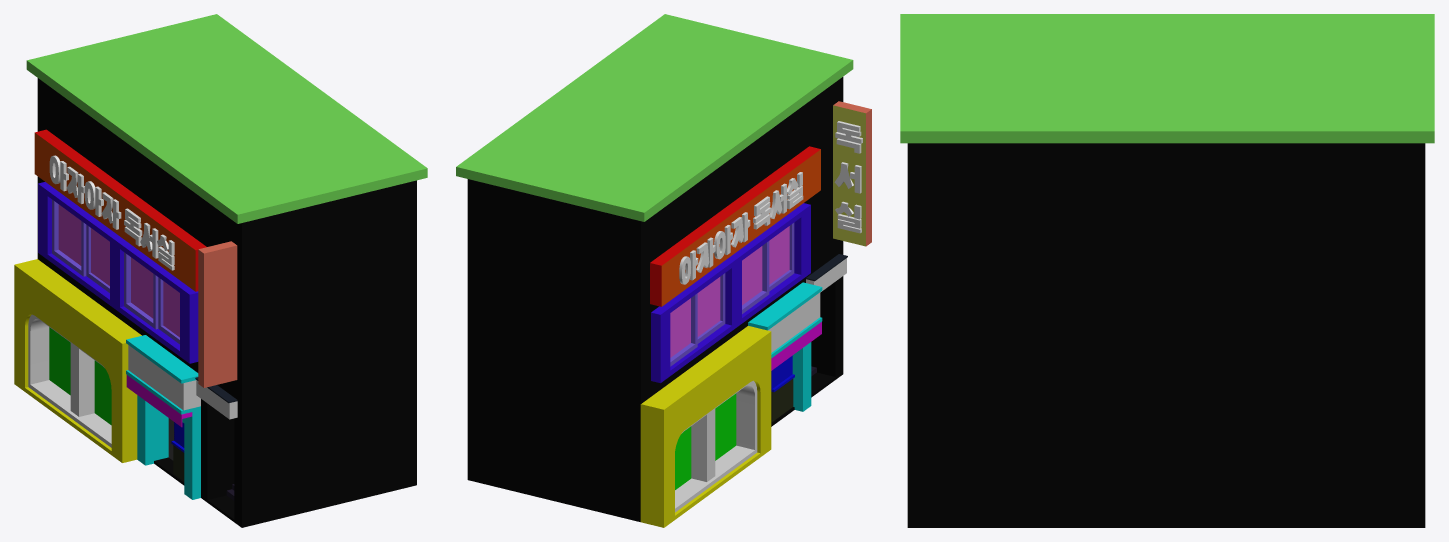
File: Building_9.fbx
3 views of the same model, side by side, from view 1: azimuth 30°, elevation 25°; view 2: azimuth 150°, elevation 25°; view 3: azimuth 270°, elevation 25° (orthographic). The views are drawn at different scales.
Visible parts, largest first — view 1: polySurface912, polySurface914, polySurface886, typeMesh8, polySurface892, polySurface909; view 2: polySurface912, polySurface914, polySurface886, typeMesh8, typeMesh9, polySurface892, polySurface909; view 3: polySurface912.
Boxes of the visible parts, x1=… form: polySurface912: x1=14, y1=14, x2=427, y2=527; polySurface914: x1=34, y1=129, x2=206, y2=291; polySurface886: x1=198, y1=241, x2=237, y2=387; typeMesh8: x1=49, y1=155, x2=174, y2=270; polySurface892: x1=128, y1=345, x2=200, y2=410; polySurface909: x1=196, y1=380, x2=237, y2=419; polySurface912: x1=456, y1=14, x2=853, y2=527; polySurface914: x1=650, y1=146, x2=820, y2=306; polySurface886: x1=833, y1=101, x2=871, y2=246; typeMesh8: x1=679, y1=172, x2=803, y2=284; typeMesh9: x1=834, y1=121, x2=862, y2=233; polySurface892: x1=768, y1=292, x2=820, y2=352; polySurface909: x1=806, y1=258, x2=846, y2=292; polySurface912: x1=900, y1=14, x2=1434, y2=527.
Size of the model in its own units: 260 by 363 by 438.
